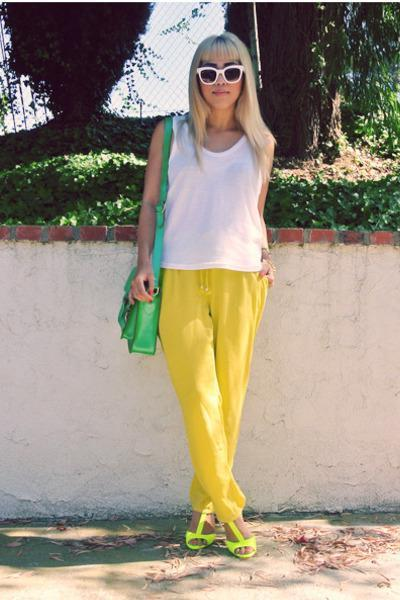trousers: (155, 266, 272, 521)
vest: (158, 112, 273, 269)
